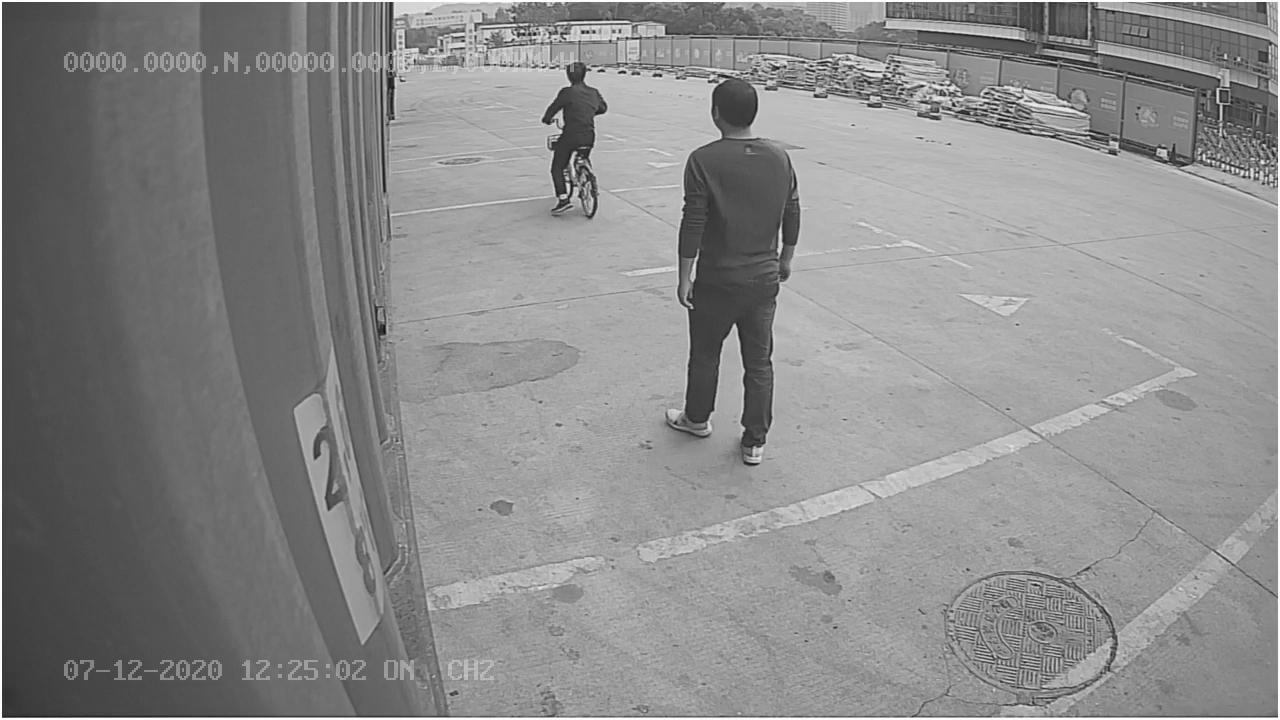person: (655, 71, 809, 471)
